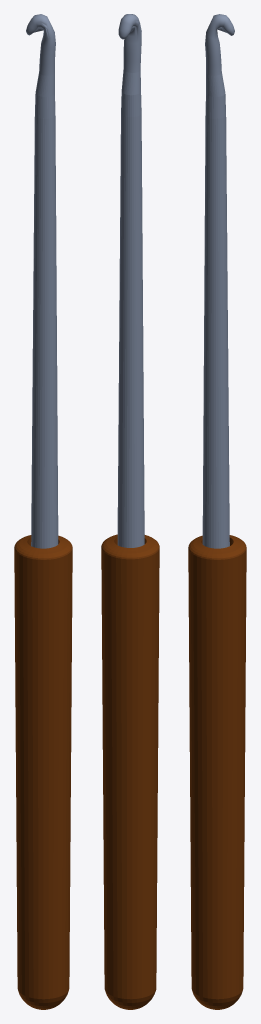
The model's file is LOCK_PIN.fbx.
The picture shows the model from 3 angles, left to right: view 1: azimuth 90°, elevation 25°; view 2: azimuth 150°, elevation 25°; view 3: azimuth 270°, elevation 25°; orthographic projection.
Parts seen in each view (by area): view 1: Sphere.001_2; view 2: Sphere.001_2; view 3: Sphere.001_2.
Boxes of the visible parts, bbox=[...] form: Sphere.001_2: bbox=[14, 14, 72, 1009]; Sphere.001_2: bbox=[101, 14, 159, 1009]; Sphere.001_2: bbox=[188, 14, 246, 1009].
Bounding box in the file's own units: 1.29 × 24.27 × 1.29.
